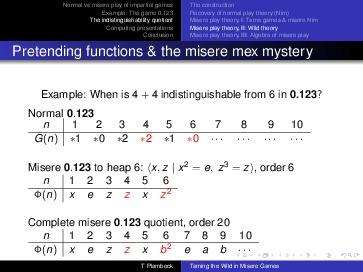paragraph: (14, 76, 351, 259)
title: (7, 40, 321, 63)
